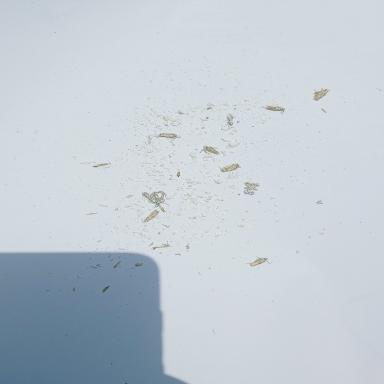pbw: (244, 256, 272, 267), (153, 133, 178, 143), (313, 88, 329, 101), (261, 106, 285, 114), (144, 210, 159, 222), (218, 164, 240, 172), (202, 146, 219, 154)
